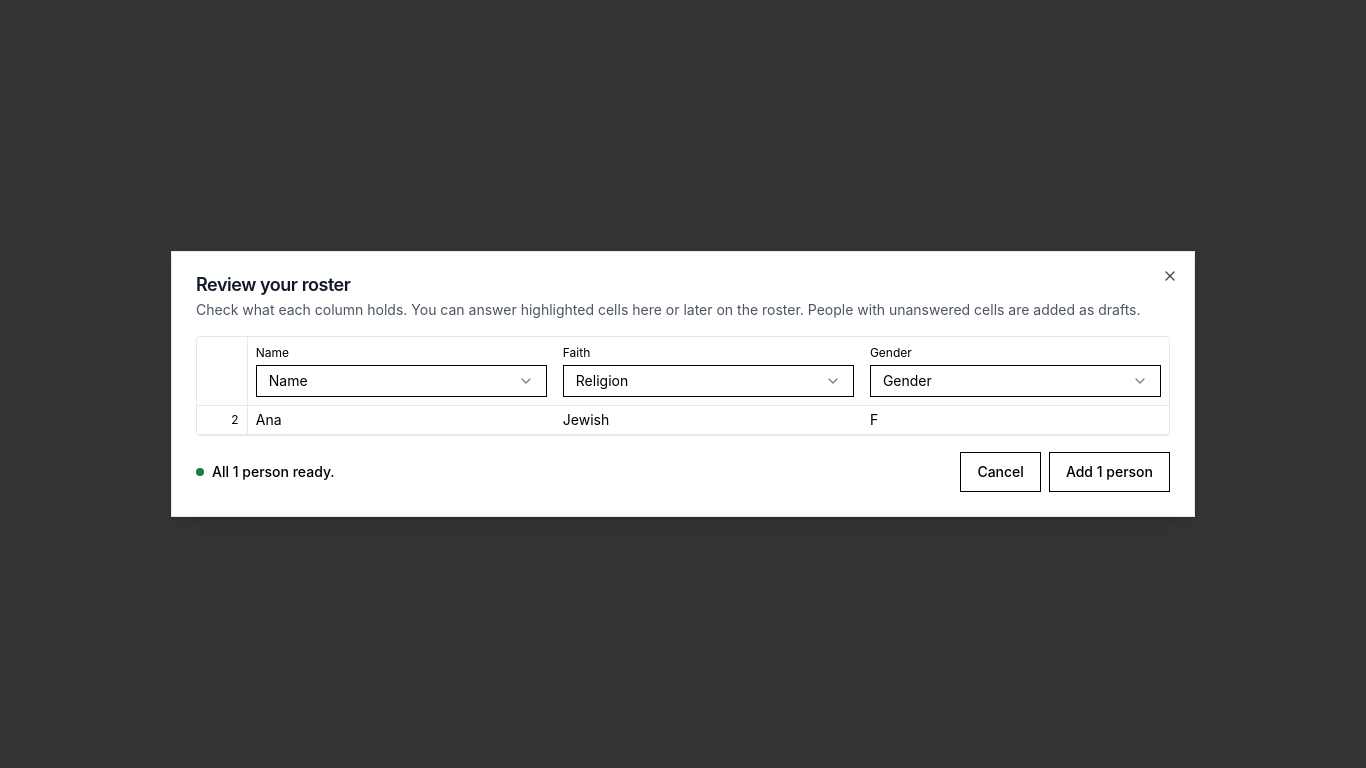
Test: shows the server refusal and stays open
This screenshot has width=1366, height=768.
What coordinates should you click on to do the following:
click the button "Add 1 person"
I would click on:
 (1109, 472)
Its box is [1049,452,1170,492].
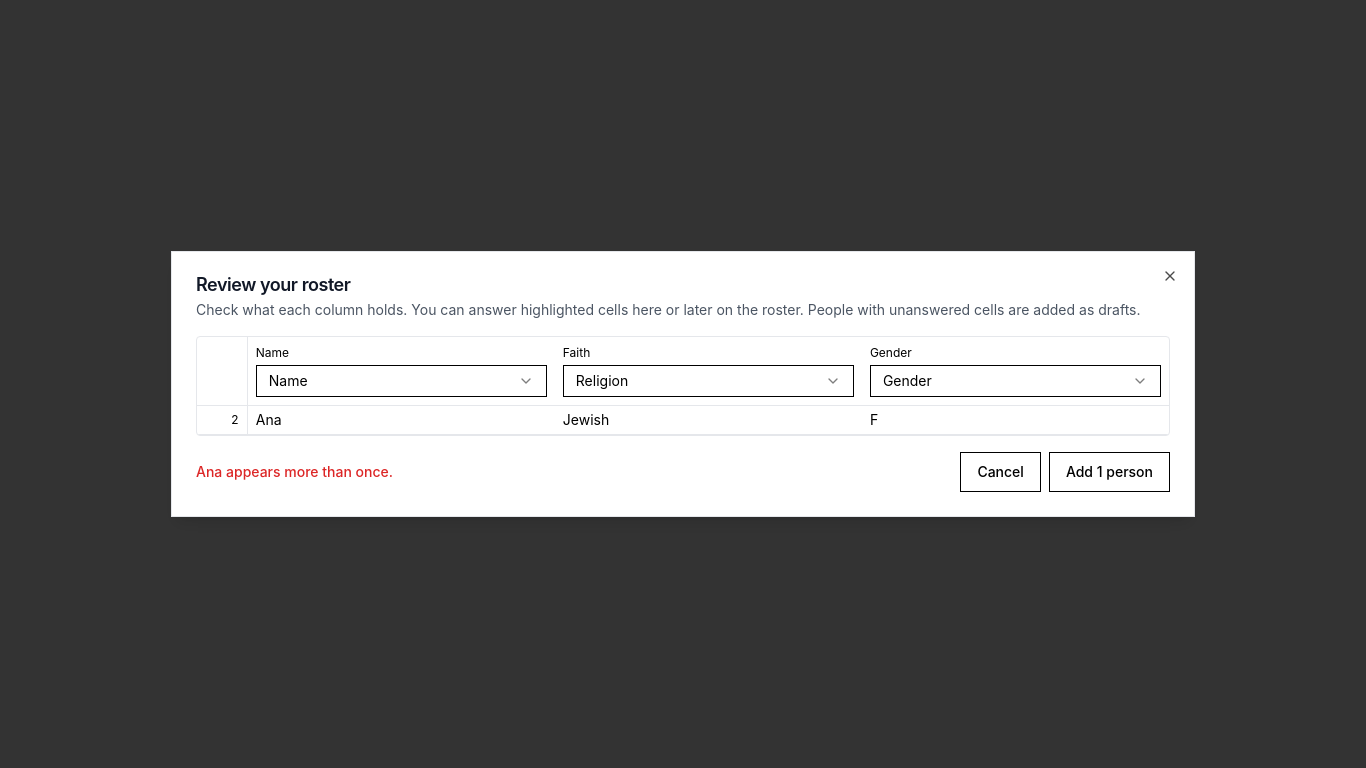
Result: the text "Ana appears more than once." is shown at [196,462,393,482]
